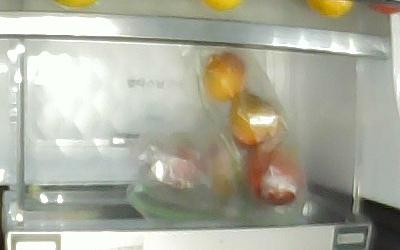prune_vinyl: (245, 144, 301, 205), (229, 93, 279, 145), (199, 48, 247, 99), (205, 141, 245, 197)
